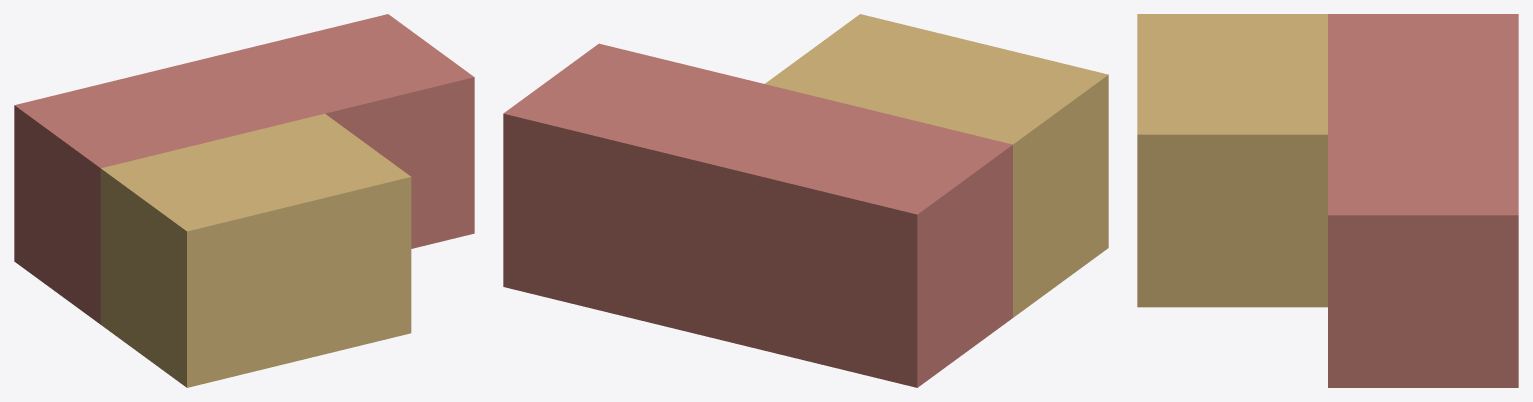
Rendered from 2026-04-01-orthographic-views.glb.
3 views of the same model, side by side, from view 1: azimuth 30°, elevation 25°; view 2: azimuth 150°, elevation 25°; view 3: azimuth 270°, elevation 25° (orthographic). The views are drawn at different scales.
Parts seen in each view (by area): view 1: body_upper, body_lower; view 2: body_lower, body_upper; view 3: body_lower, body_upper.
Boxes of the visible parts, x1=… form: body_upper: x1=100, y1=113, x2=411, y2=387; body_lower: x1=14, y1=14, x2=474, y2=324; body_lower: x1=503, y1=43, x2=1012, y2=387; body_upper: x1=765, y1=14, x2=1108, y2=317; body_lower: x1=1328, y1=14, x2=1518, y2=387; body_upper: x1=1137, y1=14, x2=1327, y2=307.
Size of the model in its own units: 2 by 0.8 by 1.6.
